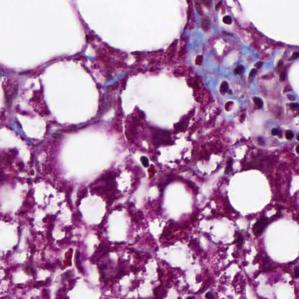inflammation: (132, 147, 160, 177), (216, 5, 240, 37)
